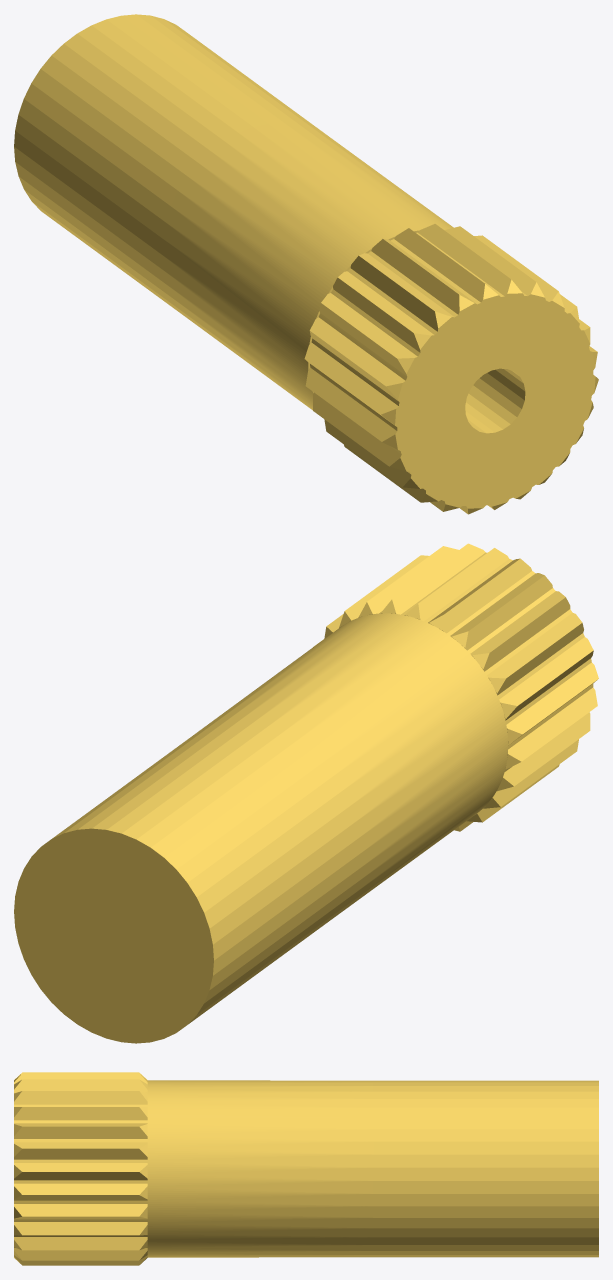
The model's file is UMIRobot_UMIRobot_link_2_vis_6.dae.
3 renders of one model, top to bottom at view 1: azimuth 30°, elevation 25°; view 2: azimuth 150°, elevation 25°; view 3: azimuth 270°, elevation 25°, orthographic. The views are drawn at different scales.
Visible parts, largest first — view 1: node; view 2: node; view 3: node.
Boxes of the visible parts, left/top/right/bottom form: node: left=14, top=14, right=598, bottom=514; node: left=14, top=543, right=598, bottom=1043; node: left=14, top=1072, right=598, bottom=1265.
Bounding box in the file's own units: 0.00578 × 0.00579 × 0.0175.
